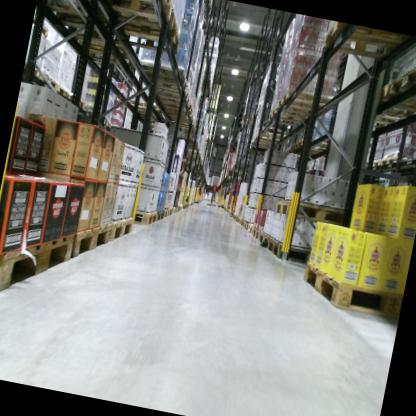pallet: (299, 253, 407, 321), (0, 219, 78, 310), (97, 0, 190, 56), (38, 0, 123, 48), (318, 19, 403, 66), (273, 190, 350, 227), (68, 212, 117, 269), (365, 82, 416, 136), (75, 31, 139, 71), (89, 0, 177, 24), (265, 235, 327, 267), (275, 85, 332, 118), (266, 100, 317, 134), (387, 56, 416, 106), (139, 63, 190, 91), (147, 77, 193, 104), (107, 211, 136, 247), (292, 135, 331, 158), (126, 96, 163, 116), (159, 96, 194, 116), (61, 88, 87, 114), (34, 65, 61, 90), (287, 145, 327, 161), (252, 129, 287, 147), (360, 154, 385, 179), (132, 206, 158, 225), (380, 155, 408, 172), (53, 84, 75, 103), (250, 224, 265, 242), (240, 114, 255, 130), (257, 230, 271, 247), (246, 222, 255, 236), (155, 209, 165, 221), (160, 207, 169, 218), (243, 219, 251, 231), (171, 204, 179, 214), (165, 206, 172, 216), (174, 204, 180, 214), (237, 216, 243, 225), (178, 203, 183, 212), (241, 218, 246, 227)
pallet_truck: (219, 177, 239, 209), (192, 169, 206, 205)
